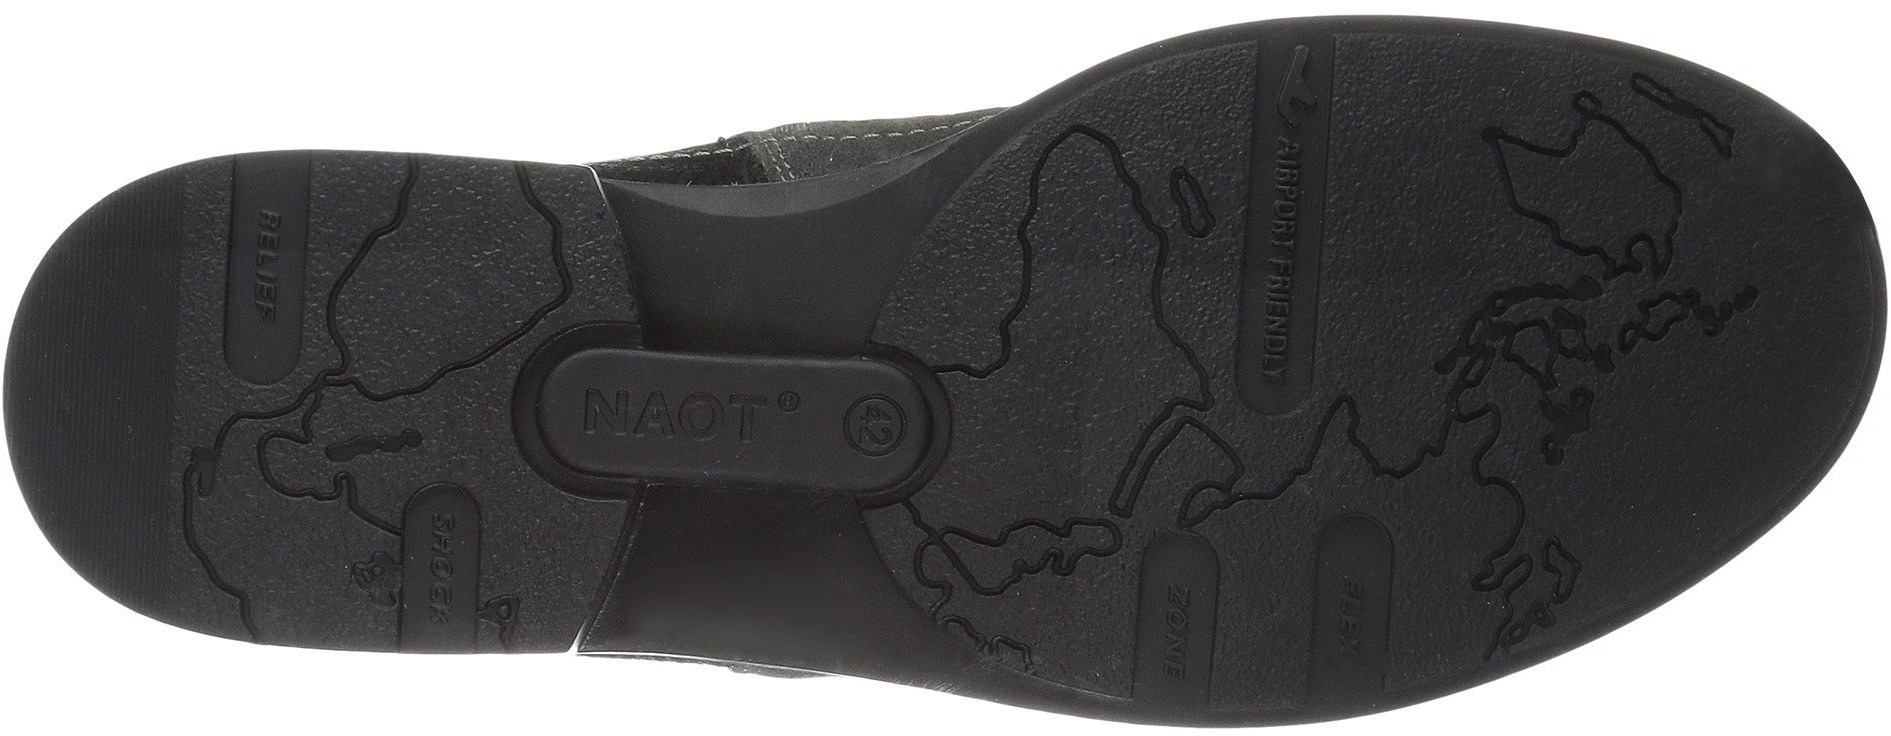circle: (1149, 567, 1224, 713), (403, 514, 478, 636), (832, 380, 917, 480)
other: (665, 490, 841, 662), (16, 302, 174, 477), (1618, 354, 1795, 506), (1345, 109, 1498, 270), (665, 220, 825, 345)
text: (574, 357, 691, 477), (696, 366, 806, 479), (1149, 567, 1224, 713), (222, 189, 317, 290), (403, 514, 478, 636), (1318, 560, 1397, 676), (832, 380, 917, 480), (1252, 222, 1321, 308), (1251, 147, 1319, 224)
